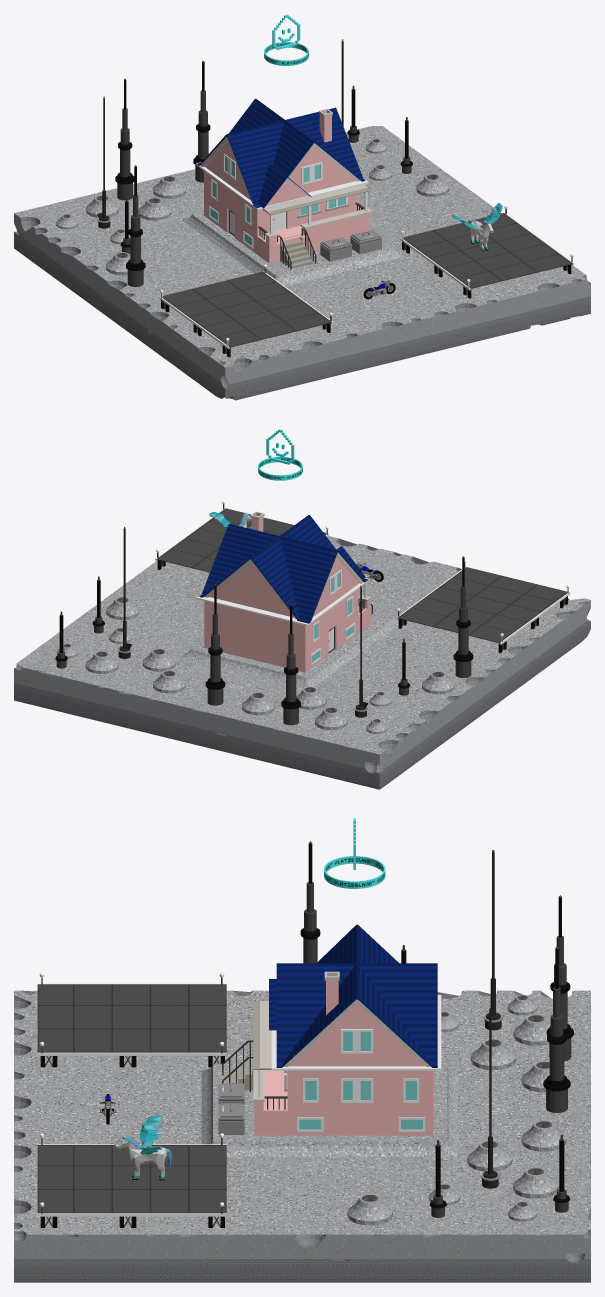
3 views of the same model, one above another, from view 1: azimuth 30°, elevation 25°; view 2: azimuth 150°, elevation 25°; view 3: azimuth 270°, elevation 25° (orthographic). The views are drawn at different scales.
Visible parts, largest first — view 1: Cube.027, Cube.313, Cube.025, Cube.026, Cube.028, Cylinder.021, Cylinder.020, Cylinder.017, TYPE_PREMIUM, ANIMAL_PEGASO, Cube.029, Cube.030 (+3 smaller); view 2: Cube.027, Cube.313, Cube.025, Cube.028, Cube.026, Cylinder.017, Cylinder.021, Cylinder.020, TYPE_PREMIUM, Cylinder.030, Cylinder.029, Cylinder.025 (+6 smaller); view 3: Cube.027, Cube.313, Cube.025, Cube.026, Cube.028, Cylinder.017, ANIMAL_PEGASO, Cylinder.020, Cylinder.021, TYPE_PREMIUM, Cylinder.033, Cylinder.031 (+10 smaller).
Boxes of the visible parts, x1,y1,x2,y2 form: Cube.027: [14, 126, 590, 400]; Cube.313: [196, 98, 372, 269]; Cube.025: [159, 264, 333, 357]; Cube.026: [400, 205, 574, 298]; Cube.028: [182, 211, 403, 286]; Cylinder.021: [126, 165, 145, 286]; Cylinder.020: [115, 78, 134, 200]; Cylinder.017: [193, 60, 210, 182]; TYPE_PREMIUM: [264, 14, 308, 65]; ANIMAL_PEGASO: [452, 203, 502, 251]; Cube.029: [320, 237, 351, 261]; Cube.030: [350, 230, 381, 254]; Cube.027: [14, 536, 590, 789]; Cube.313: [197, 511, 372, 672]; Cube.025: [396, 560, 570, 653]; Cube.028: [181, 610, 398, 688]; Cube.026: [155, 501, 329, 572]; Cylinder.017: [205, 583, 225, 705]; Cylinder.021: [453, 556, 473, 677]; Cylinder.020: [281, 603, 300, 725]; TYPE_PREMIUM: [258, 429, 302, 480]; Cylinder.030: [142, 648, 175, 671]; Cylinder.029: [153, 670, 185, 693]; Cylinder.025: [422, 671, 454, 694]; Cube.027: [14, 990, 590, 1282]; Cube.313: [222, 924, 441, 1135]; Cube.025: [37, 973, 226, 1067]; Cube.026: [37, 1133, 226, 1227]; Cube.028: [201, 1063, 457, 1156]; Cylinder.017: [543, 946, 570, 1112]; ANIMAL_PEGASO: [114, 1115, 171, 1180]; Cylinder.020: [546, 895, 573, 1061]; Cylinder.021: [300, 841, 320, 963]; TYPE_PREMIUM: [324, 818, 385, 888]; Cylinder.033: [347, 1194, 392, 1225]; Cylinder.031: [513, 1167, 558, 1198].
Size of the model in its own units: 4000 by 2855 by 4000.
34 materials, 5 textured.
